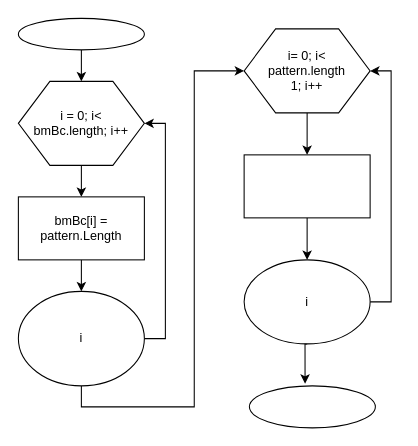
This 418x446 diagram has some shape labels left out. Here are the shapes that lost their labels. From the top down, the centre of each, then its label:
At (x=80, y=33): "Start".
At (x=306, y=186): "bmBc[pattern[i]] = pattern.length -i -1".
At (x=311, y=406): "End".
